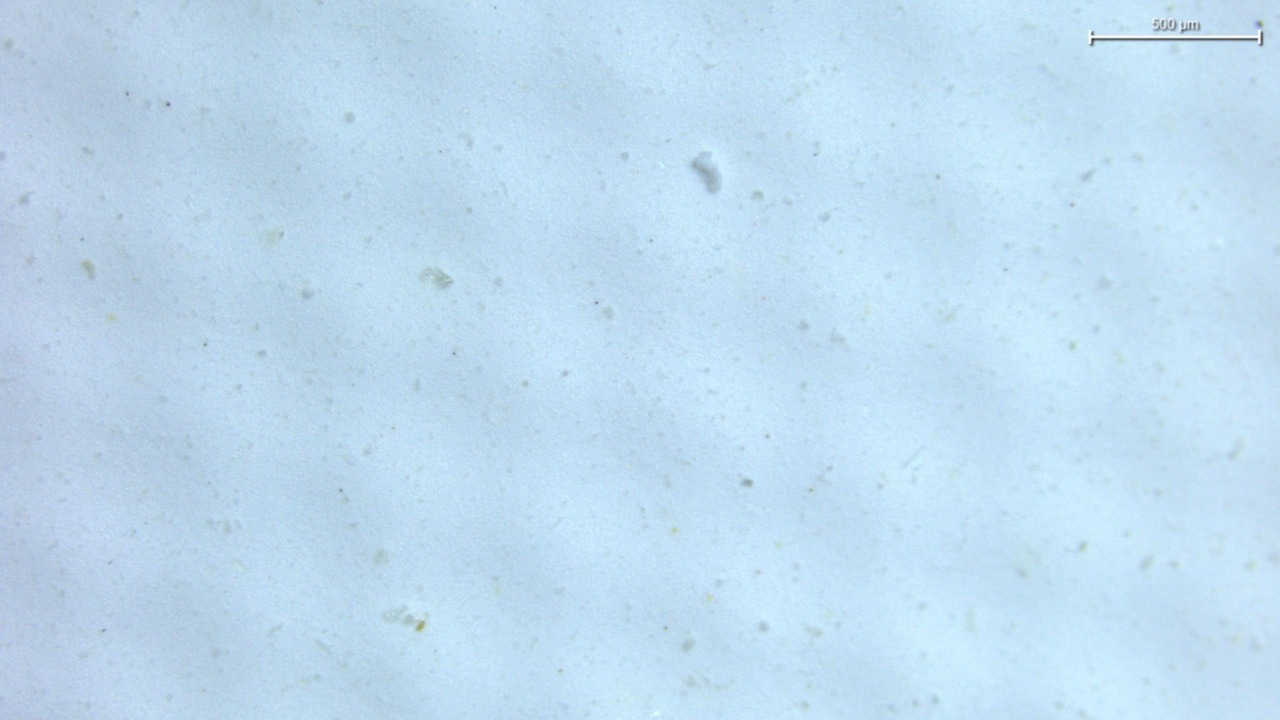microplastic_fragment: (690, 151, 722, 194)
